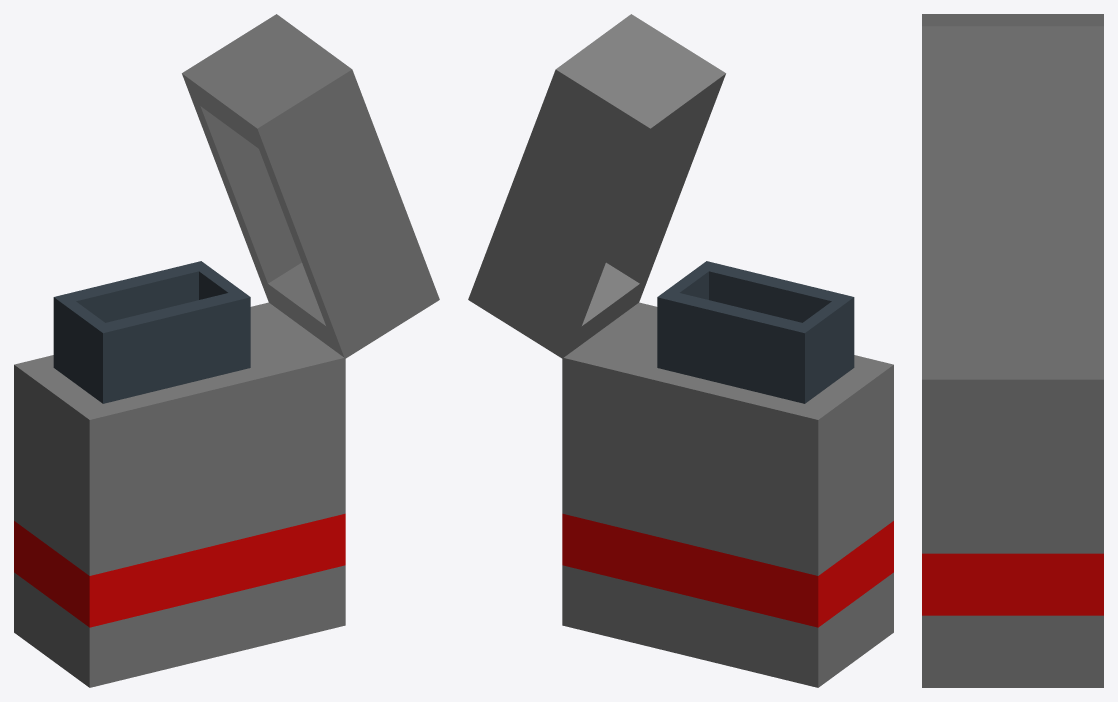
Rendered from Lighter.fbx.
3 renders of one model, left to right at view 1: azimuth 30°, elevation 25°; view 2: azimuth 150°, elevation 25°; view 3: azimuth 270°, elevation 25°, orthographic. The views are drawn at different scales.
Visible parts, largest first — view 1: Cube; view 2: Cube; view 3: Cube.
Part boxes in pixels (x1=…): Cube: x1=14, y1=14, x2=439, y2=687; Cube: x1=468, y1=14, x2=893, y2=687; Cube: x1=922, y1=14, x2=1103, y2=687.
Size of the model in its own units: 274 by 414 by 102.
